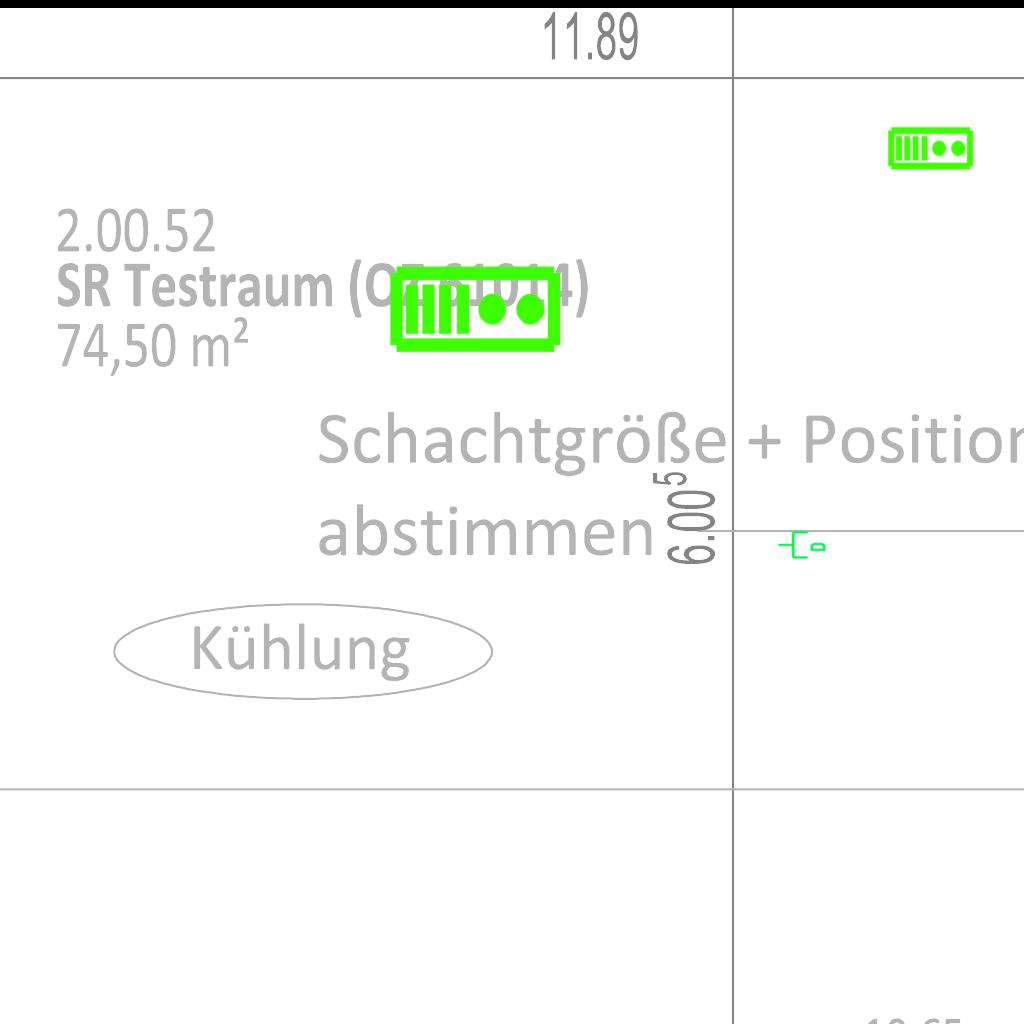Datenanschluss_einfach: (777, 527, 827, 561)
Gegensprechanlage_mit_Video: (388, 260, 564, 355), (887, 124, 975, 171)
